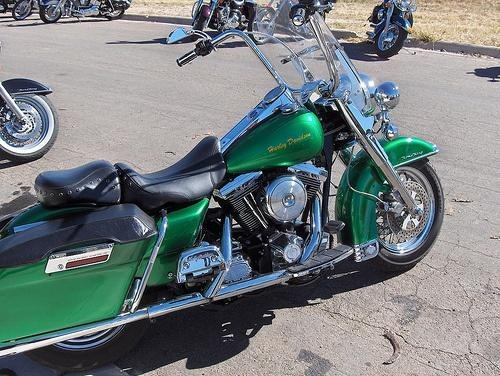motorbike: (1, 3, 446, 371), (1, 76, 60, 162), (250, 1, 336, 44), (367, 1, 418, 59), (192, 1, 260, 37), (39, 2, 132, 24)
